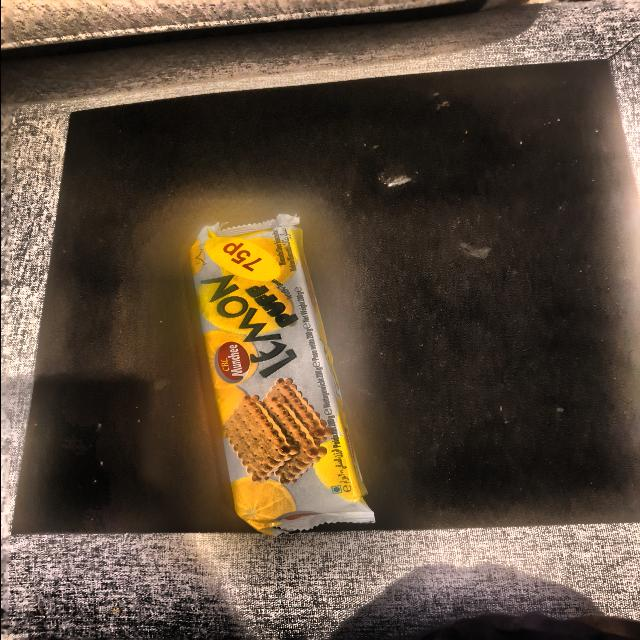lemon puff: (185, 221, 352, 533)
